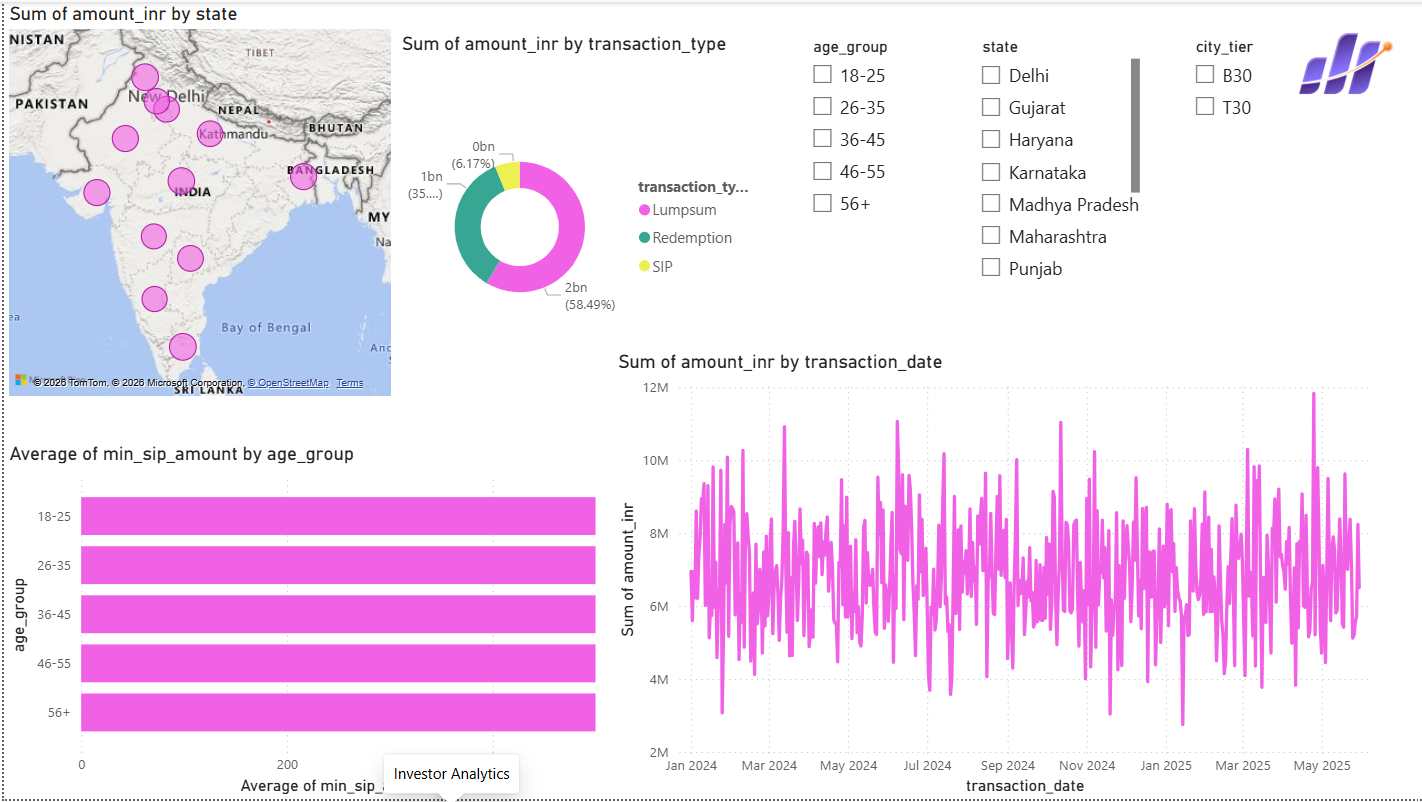

Layout of this report page (visuals, bound fields, positions):
{"tool":"powerbi","page":{"name":"Investor Analytics","canvas":[1280,720],"ordinal":2},"visuals":[{"type":"map","fields":{"Size":["Sum(clean_investor_transactions.amount_inr)"],"Category":["clean_investor_transactions.state"]},"box":[0,0,354.3,360],"z":0},{"type":"donutChart","fields":{"Y":["Sum(clean_investor_transactions.amount_inr)"],"Category":["clean_investor_transactions.transaction_type"]},"box":[354.3,27.1,325.7,332.9],"z":1000},{"type":"clusteredBarChart","fields":{"Y":["Avg(clean_fund_master.min_sip_amount)"],"Category":["clean_investor_transactions.age_group"]},"box":[0,397.1,548.6,322.9],"z":2000},{"type":"lineChart","fields":{"Y":["Sum(clean_investor_transactions.amount_inr)"],"Category":["clean_investor_transactions.transaction_date"]},"box":[548.6,314.3,704.3,405.7],"z":3000},{"type":"slicer","fields":{"Values":["clean_investor_transactions.state"]},"box":[868.6,27.1,160,234.3],"z":4000},{"type":"slicer","fields":{"Values":["clean_investor_transactions.age_group"]},"box":[717.1,27.1,140,187.1],"z":5000},{"type":"slicer","fields":{"Values":["clean_investor_transactions.city_tier"]},"box":[1061.4,27.1,115.7,128.6],"z":6000},{"type":"image","box":[1140,0,140,111.7],"z":6001}]}

Visuals, with their boxes in screenshot pixels (x1, y1, x2, y2), scaled from the page's 1280x720 canvas onto the 1422x802 screenshot:
map - Sum(clean_investor_transactions.amount_inr) x clean_investor_transactions.state: [0, 0, 394, 401]
donutChart - Sum(clean_investor_transactions.amount_inr) x clean_investor_transactions.transaction_type: [394, 30, 755, 401]
clusteredBarChart - Avg(clean_fund_master.min_sip_amount) x clean_investor_transactions.age_group: [0, 442, 609, 801]
lineChart - Sum(clean_investor_transactions.amount_inr) x clean_investor_transactions.transaction_date: [609, 350, 1392, 801]
slicer - clean_investor_transactions.state: [965, 30, 1143, 291]
slicer - clean_investor_transactions.age_group: [797, 30, 952, 239]
slicer - clean_investor_transactions.city_tier: [1179, 30, 1308, 173]
image: [1266, 0, 1421, 124]
